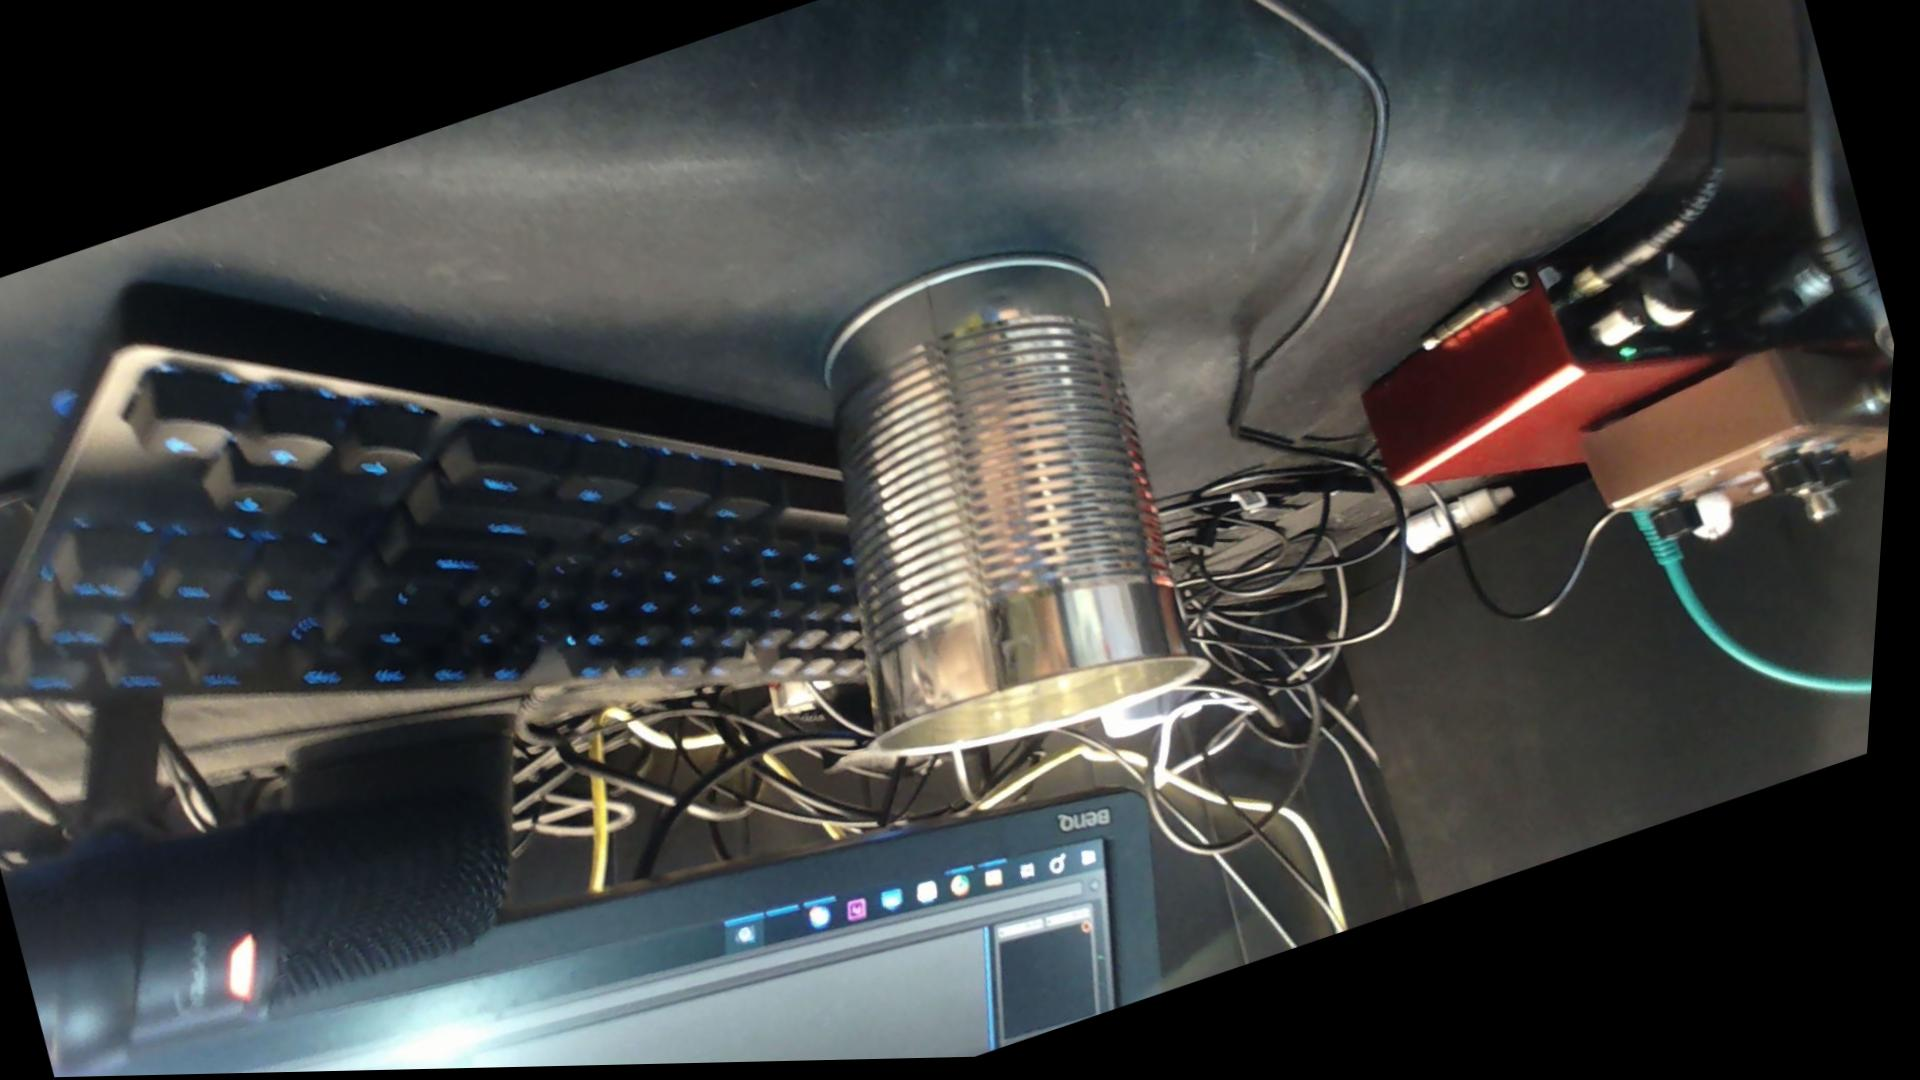metal: (828, 255, 1203, 810)
